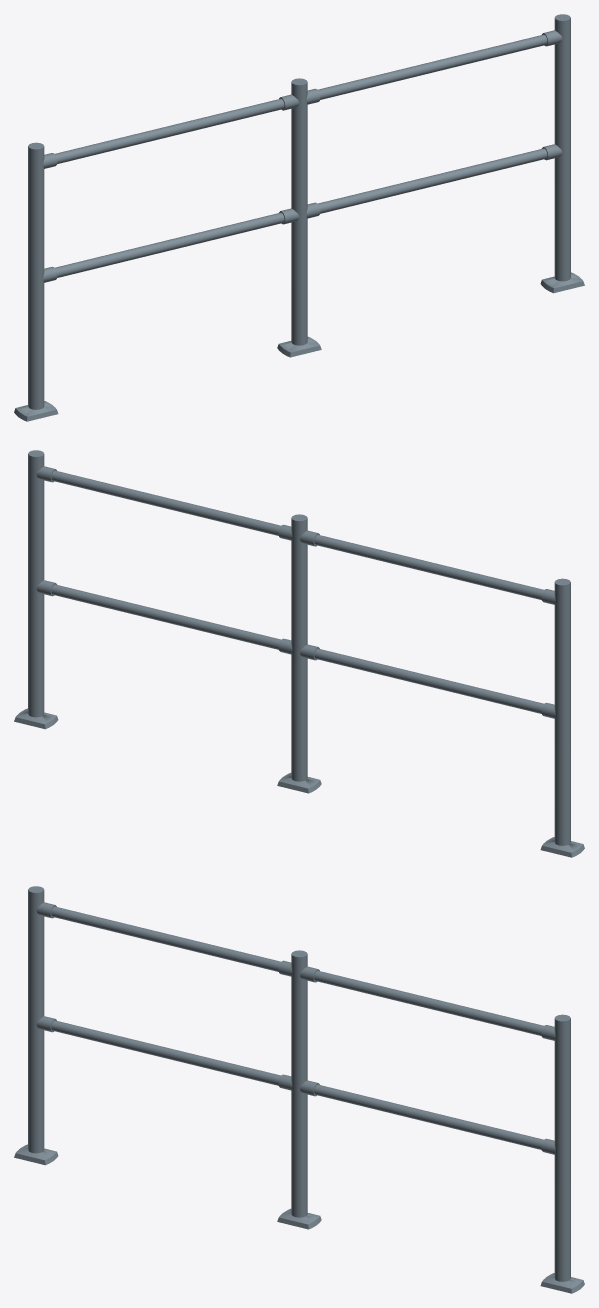
Rendered from SM_Props_Supermarket_03.fbx.
3 renders of one model, top to bottom at view 1: azimuth 30°, elevation 25°; view 2: azimuth 150°, elevation 25°; view 3: azimuth 330°, elevation 25°, orthographic.
Visible parts, largest first — view 1: SM_Props_Supermarket_03; view 2: SM_Props_Supermarket_03; view 3: SM_Props_Supermarket_03.
Part boxes in pixels (<box>): SM_Props_Supermarket_03: <box>14,14,584,421</box>; SM_Props_Supermarket_03: <box>14,450,584,857</box>; SM_Props_Supermarket_03: <box>14,886,584,1293</box>.
Bounding box in the file's own units: 2 × 0.91 × 0.0797.
